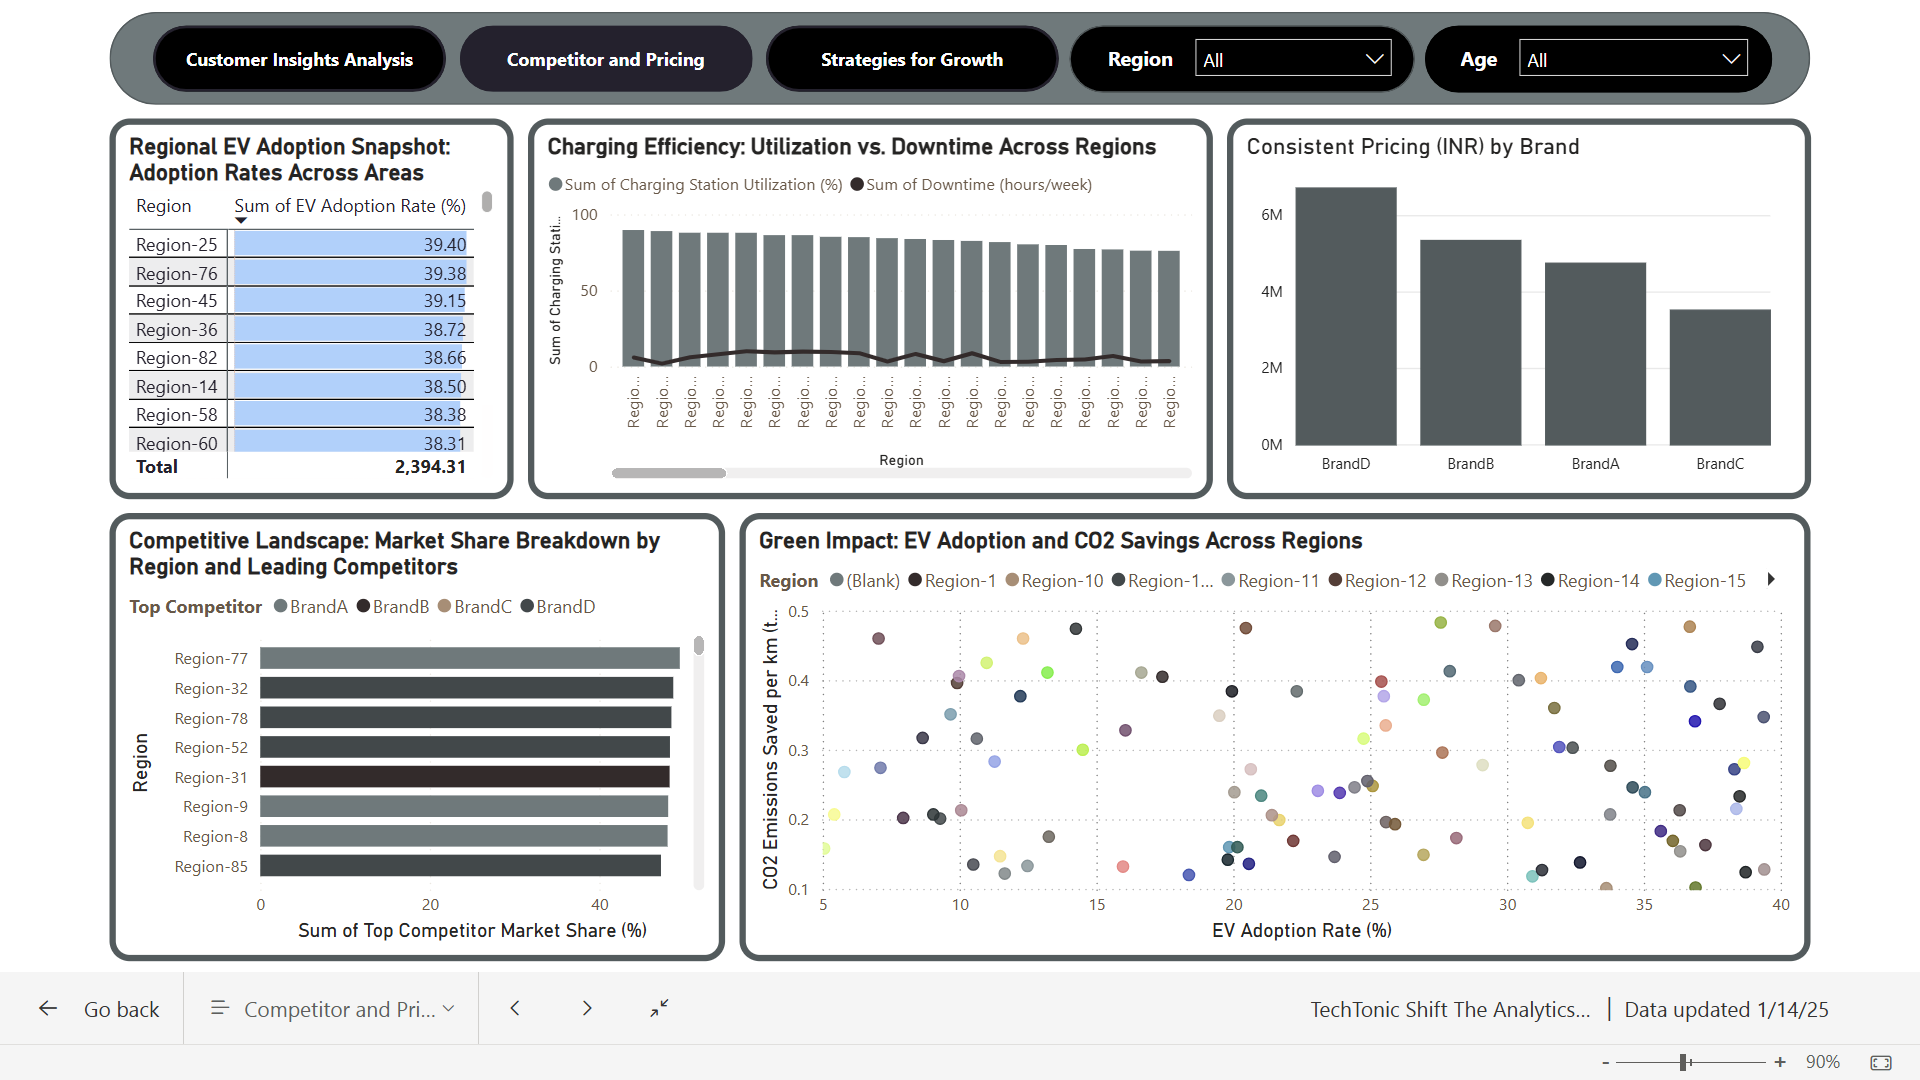

What the dashboard file says about the page in this screenshot:
{"tool":"powerbi","page":{"name":"Competitor and Pricing","canvas":[1280,720],"ordinal":1},"visuals":[{"type":"shape","box":[10.2,8.8,1259.8,68.7],"z":0,"group":"g3"},{"type":"pivotTable","title":"Regional EV Adoption Snapshot: Adoption Rates Across Areas","fields":{"Rows":["Region-Specific Data.Region"],"Values":["Sum(Region-Specific Data.EV Adoption Rate (%))"]},"box":[10.2,87.7,299.6,282.1],"z":0},{"type":"pageNavigator","box":[42.3,19,672.3,49.7],"z":1000,"group":"g3"},{"type":"lineStackedColumnComboChart","title":"Charging Efficiency: Utilization vs. Downtime Across Regions","fields":{"Category":["Region-Specific Data.Region"],"Y":["Sum(Region-Specific Data.Charging Station Utilization (%))"],"Y2":["Sum(Region-Specific Data.Downtime (hours/week))"]},"box":[320.1,87.7,507.1,282.1],"z":1000},{"type":"group","id":"g1","title":"Group 1","box":[984.6,19,257.2,49.7],"z":2000,"group":"g3"},{"type":"scatterChart","title":"Green Impact: EV Adoption and CO2 Savings Across Regions","fields":{"X":["Region-Specific Data.EV Adoption Rate (%)"],"Y":["Region-Specific Data.CO2 Emissions Saved per km (tons)"],"Series":["Region-Specific Data.Region"]},"box":[476.4,380,793.6,331.8],"z":2000},{"type":"group","id":"g2","title":"Group 2","box":[720.9,19,255.8,49.7],"z":3000,"group":"g3"},{"type":"stackedColumnChartByAkvelonCC88FD95630A41AC8562F09033A48946","title":"Consistent Pricing (INR) by Brand","fields":{"Axis":["Brand Pricing.Brand"],"Value":["Sum(Brand Pricing.Consistent Pricing (INR))"]},"box":[837.4,87.7,432.6,282.1],"z":3000},{"type":"barChart","title":"Competitive Landscape: Market Share Breakdown by Region and Leading Competitors","fields":{"Category":["Region-Specific Data.Region"],"Series":["Region-Specific Data.Top Competitor"],"Y":["Sum(Region-Specific Data.Top Competitor Market Share (%))"]},"box":[10.2,380,456,331.8],"z":4000},{"type":"group","id":"g3","title":"Group 3","box":[10.2,8.8,1259.8,68.7],"z":4003},{"type":"shape","box":[720.9,19,255.8,49.7],"z":8000,"group":"g2"},{"type":"shape","box":[984.6,19,257.2,49.7],"z":8000,"group":"g1"},{"type":"slicer","fields":{"Values":["Individual Data.Age Group"]},"box":[1044.5,19,189.3,49.7],"z":10000,"group":"g1"},{"type":"textbox","box":[744.3,27.8,86.2,39.5],"z":11002,"group":"g2"},{"type":"textbox","box":[1005.9,27.8,74.6,39.5],"z":12000,"group":"g1"},{"type":"slicer","fields":{"Values":["Individual Data.Region"]},"box":[804.2,19,165.2,49.7],"z":14000,"group":"g2"}]}

Visuals, with their boxes on the page's 1280x720 design canvas (x1, y1, x2, y2). These are canvas units, not pixel positions in the 1920x1080 screenshot, which may show the page scaled, cropped or inside an application window:
shape: locate(10, 9, 1270, 78)
"Regional EV Adoption Snapshot: Adoption Rates Across Areas" pivotTable: locate(10, 88, 310, 370)
pageNavigator: locate(42, 19, 715, 69)
"Charging Efficiency: Utilization vs. Downtime Across Regions" lineStackedColumnComboChart: locate(320, 88, 827, 370)
"Group 1" group: locate(985, 19, 1242, 69)
"Green Impact: EV Adoption and CO2 Savings Across Regions" scatterChart: locate(476, 380, 1270, 712)
"Group 2" group: locate(721, 19, 977, 69)
"Consistent Pricing (INR) by Brand" stackedColumnChartByAkvelonCC88FD95630A41AC8562F09033A48946: locate(837, 88, 1270, 370)
"Competitive Landscape: Market Share Breakdown by Region and Leading Competitors" barChart: locate(10, 380, 466, 712)
"Group 3" group: locate(10, 9, 1270, 78)
shape: locate(721, 19, 977, 69)
shape: locate(985, 19, 1242, 69)
slicer - Individual Data.Age Group: locate(1044, 19, 1234, 69)
textbox: locate(744, 28, 830, 67)
textbox: locate(1006, 28, 1080, 67)
slicer - Individual Data.Region: locate(804, 19, 969, 69)
